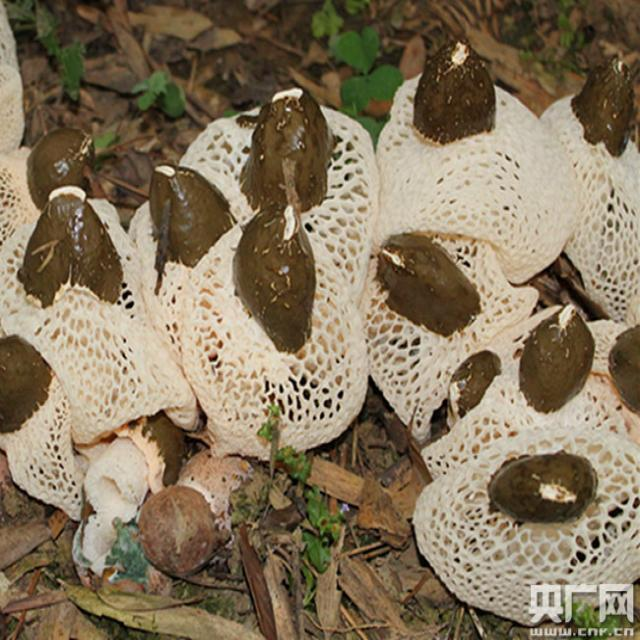Dictyophora indusiate: (376, 40, 579, 284), (1, 185, 196, 426), (179, 209, 367, 450), (176, 87, 380, 305), (415, 450, 640, 621), (422, 309, 640, 478), (371, 230, 527, 436), (543, 52, 640, 321), (126, 157, 241, 293), (0, 340, 78, 514), (0, 128, 101, 237)
